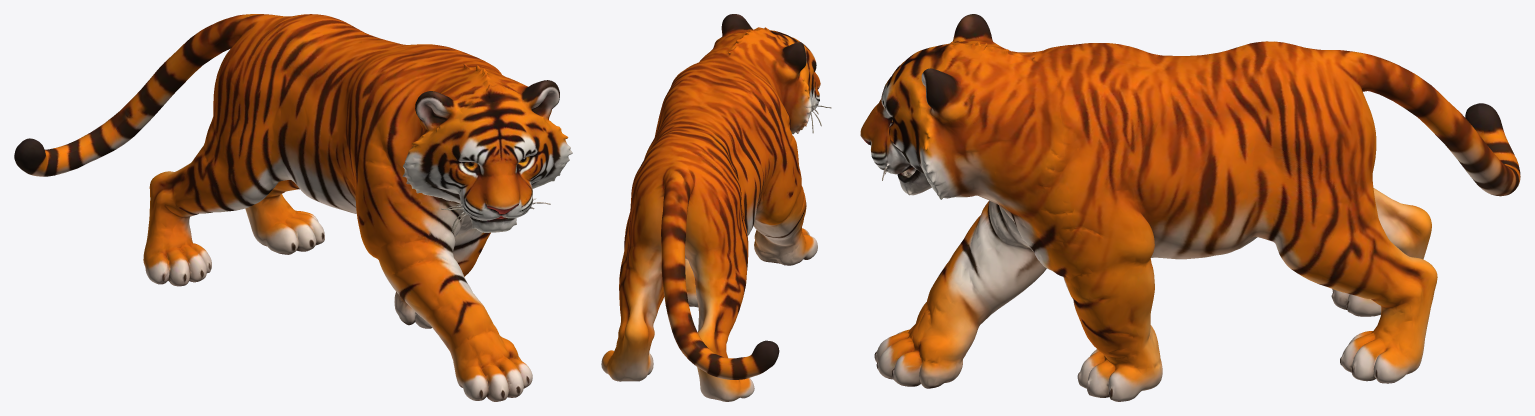
Rendered from tiger3d.glb.
The picture shows the model from 3 angles, left to right: view 1: azimuth 30°, elevation 25°; view 2: azimuth 150°, elevation 25°; view 3: azimuth 270°, elevation 25°; orthographic projection. The views are drawn at different scales.
Parts seen in each view (by area): view 1: tripo_node_452b4253-809e-42e8-9a60-add43cda2af4; view 2: tripo_node_452b4253-809e-42e8-9a60-add43cda2af4; view 3: tripo_node_452b4253-809e-42e8-9a60-add43cda2af4.
Boxes of the visible parts, x1,y1,x2,y2 form: tripo_node_452b4253-809e-42e8-9a60-add43cda2af4: [14, 14, 572, 401]; tripo_node_452b4253-809e-42e8-9a60-add43cda2af4: [601, 14, 831, 401]; tripo_node_452b4253-809e-42e8-9a60-add43cda2af4: [860, 14, 1520, 401].
Size of the model in its own units: 0.6498 by 0.5728 by 0.9999.
1 material, 1 textured.
